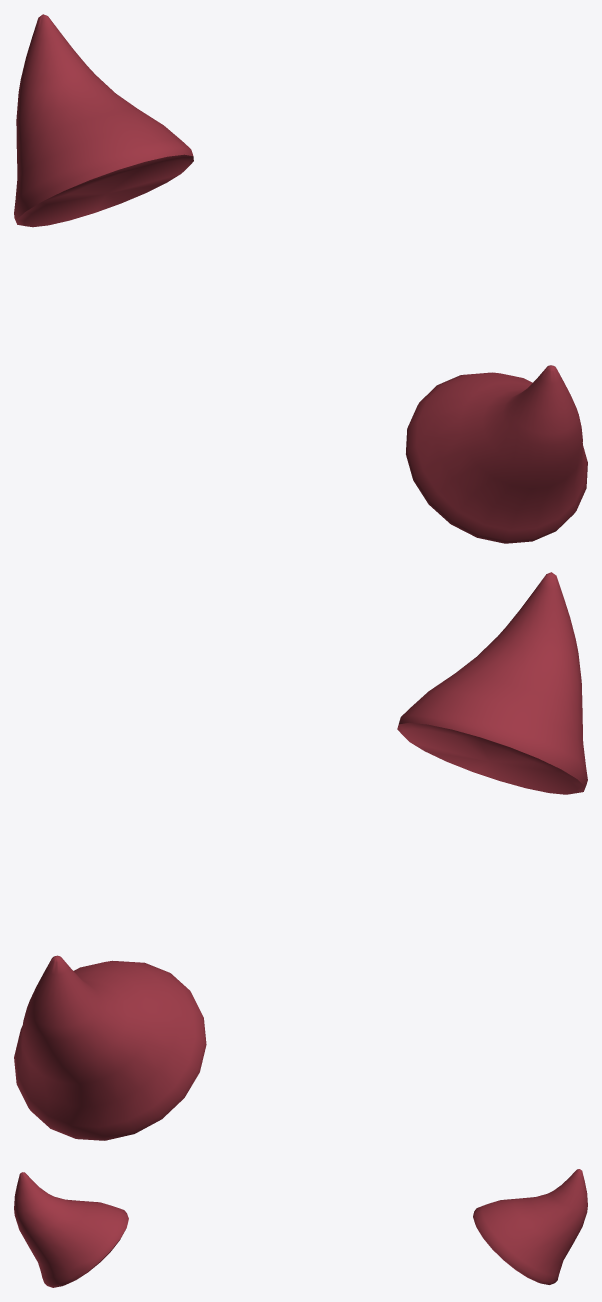
Rendered from Mouton_habillé_cornes_démons.fbx.
3 views of the same model, one above another, from view 1: azimuth 30°, elevation 25°; view 2: azimuth 150°, elevation 25°; view 3: azimuth 270°, elevation 25° (orthographic). The views are drawn at different scales.
Visible parts, largest first — view 1: Cornes_démon; view 2: Cornes_démon; view 3: Cornes_démon.
Boxes of the visible parts, x1,y1,x2,y2 form: Cornes_démon: (14, 14, 587, 543); Cornes_démon: (14, 572, 587, 1140); Cornes_démon: (14, 1169, 587, 1287).
Size of the model in its own units: 8.51 by 8.77 by 41.53.
